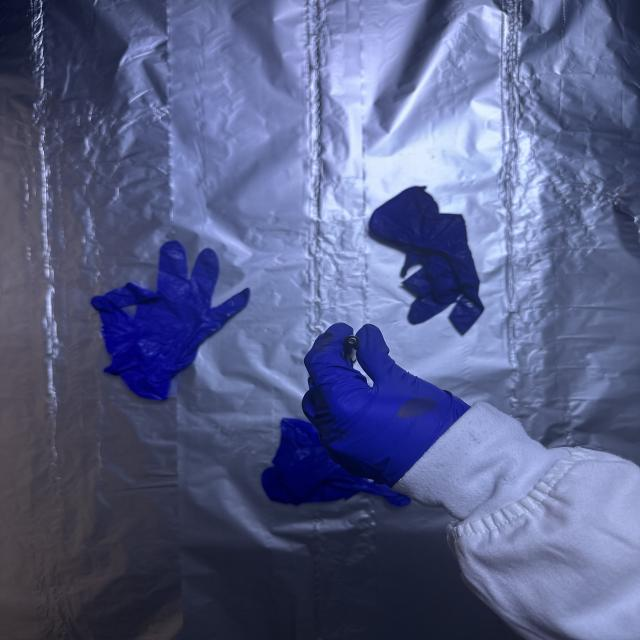gloves_contaminated: (302, 323, 469, 487)
